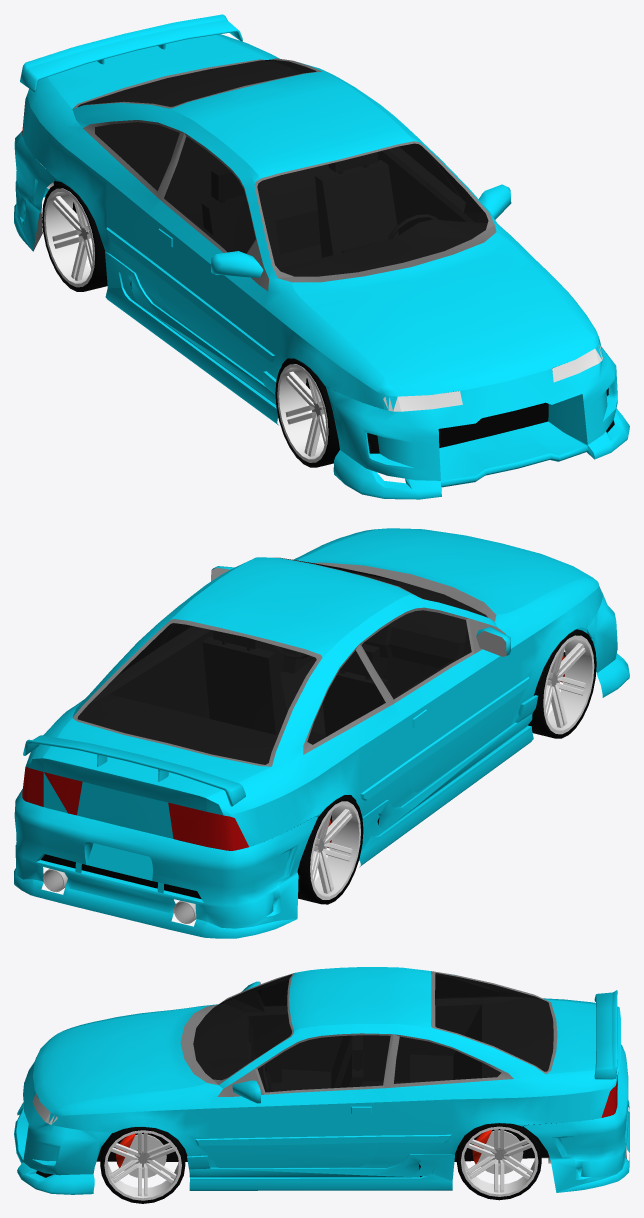
The model's file is opel-calibra.glb.
3 views of the same model, one above another, from view 1: azimuth 30°, elevation 25°; view 2: azimuth 150°, elevation 25°; view 3: azimuth 270°, elevation 25° (orthographic). The views are drawn at different scales.
Parts seen in each view (by area): view 1: Material2 (×2), Material3 (×8); view 2: Material3 (×9), Material2 (×3); view 3: Material2, Material3 (×10).
Boxes of the visible parts, x1,y1,x2,y2 form: Material2 (×2): (14,14,629,499); Material3 (×8): (14,58,602,467); Material3 (×9): (14,557,596,938); Material2 (×3): (14,528,629,928); Material2: (14,967,628,1194); Material3 (×10): (36,971,629,1203).
Size of the model in its own units: 2.15 by 1.46 by 5.05.
